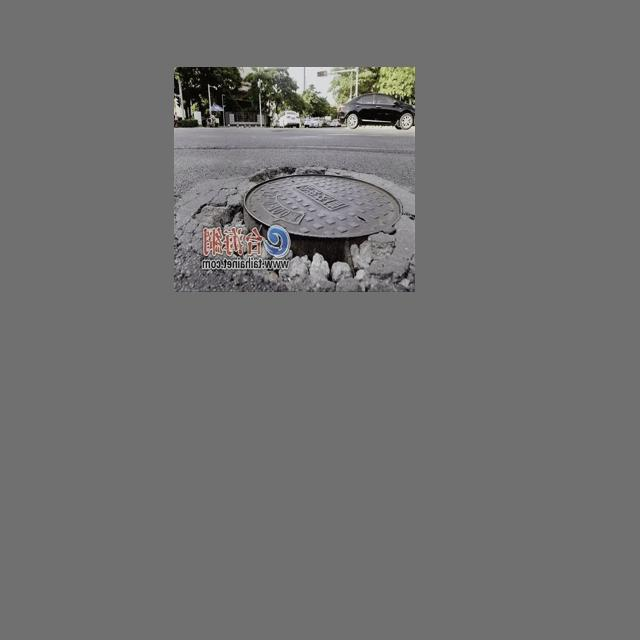circle: (188, 165, 411, 279)
